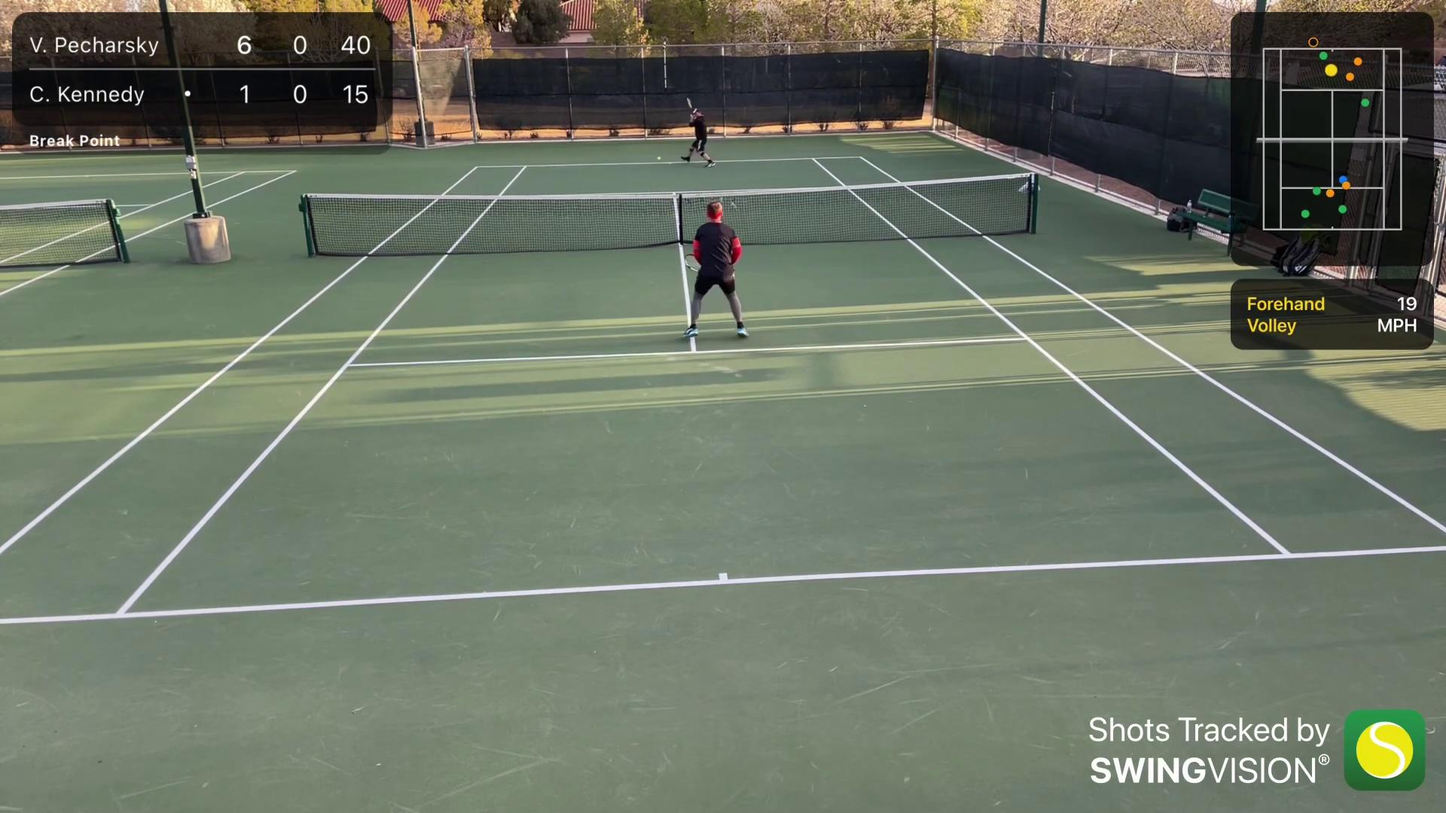ball: (655, 154, 662, 162)
